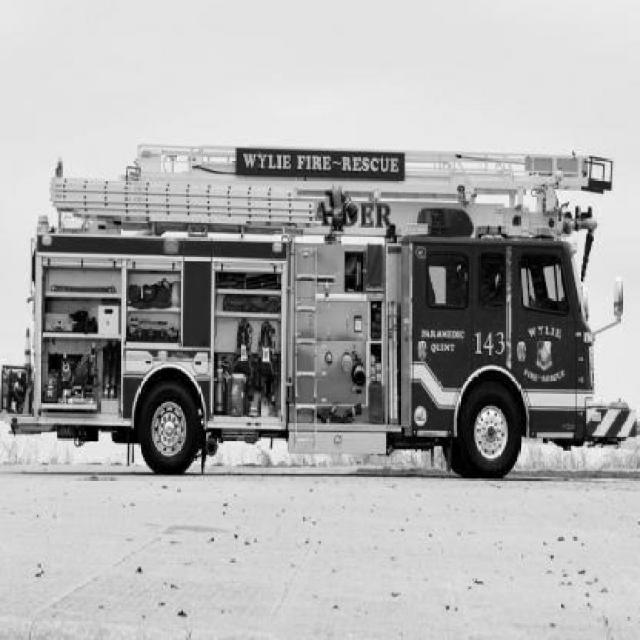Fire Truck: (0, 144, 640, 480)
